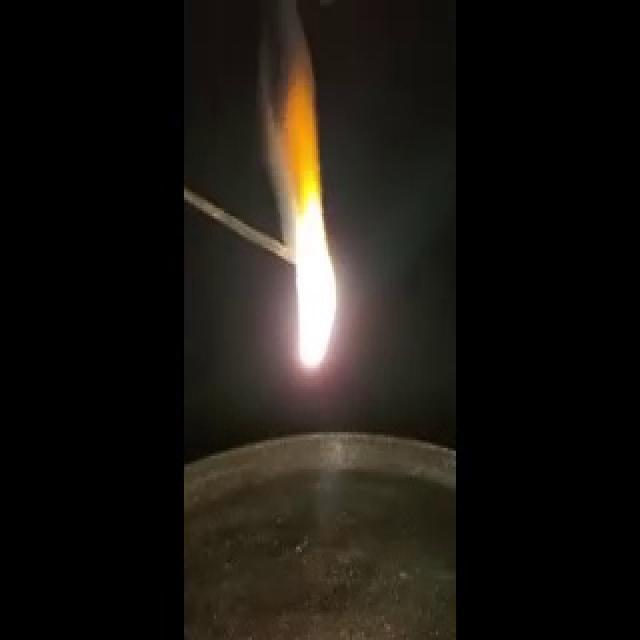fire: (266, 81, 348, 380)
